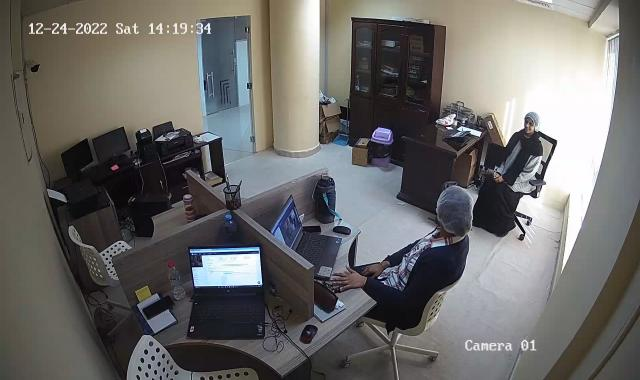hairnet: (436, 185, 474, 239), (522, 109, 540, 135)
